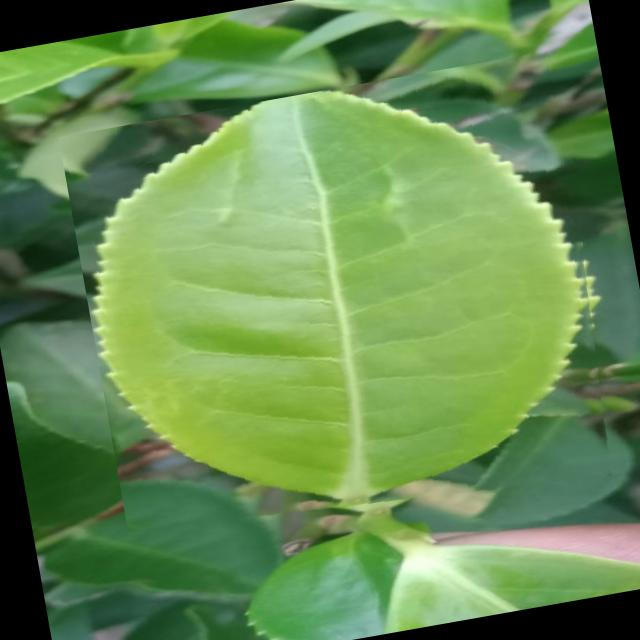Category B(2-4 days): (58, 49, 630, 559)
